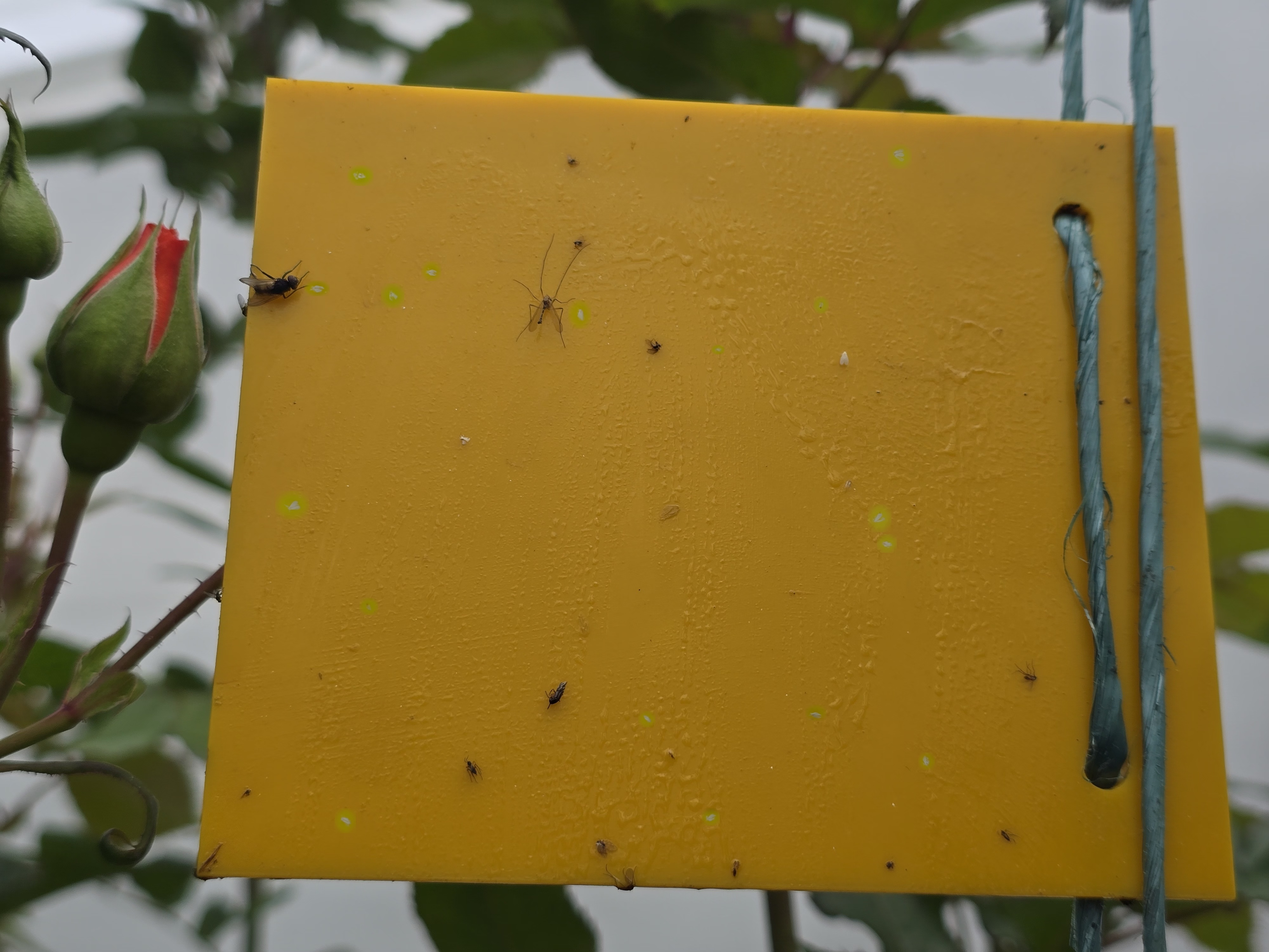WF: (280, 495, 304, 515), (836, 347, 853, 373), (571, 304, 588, 324), (871, 508, 888, 528), (384, 287, 401, 304), (891, 148, 908, 165), (351, 168, 369, 183), (338, 812, 352, 829), (308, 283, 326, 294), (424, 264, 438, 278), (457, 434, 473, 446), (880, 537, 894, 550), (808, 707, 823, 718), (704, 811, 717, 823), (362, 600, 375, 612), (641, 713, 653, 725), (921, 755, 932, 767), (816, 299, 826, 311), (713, 346, 722, 353)
